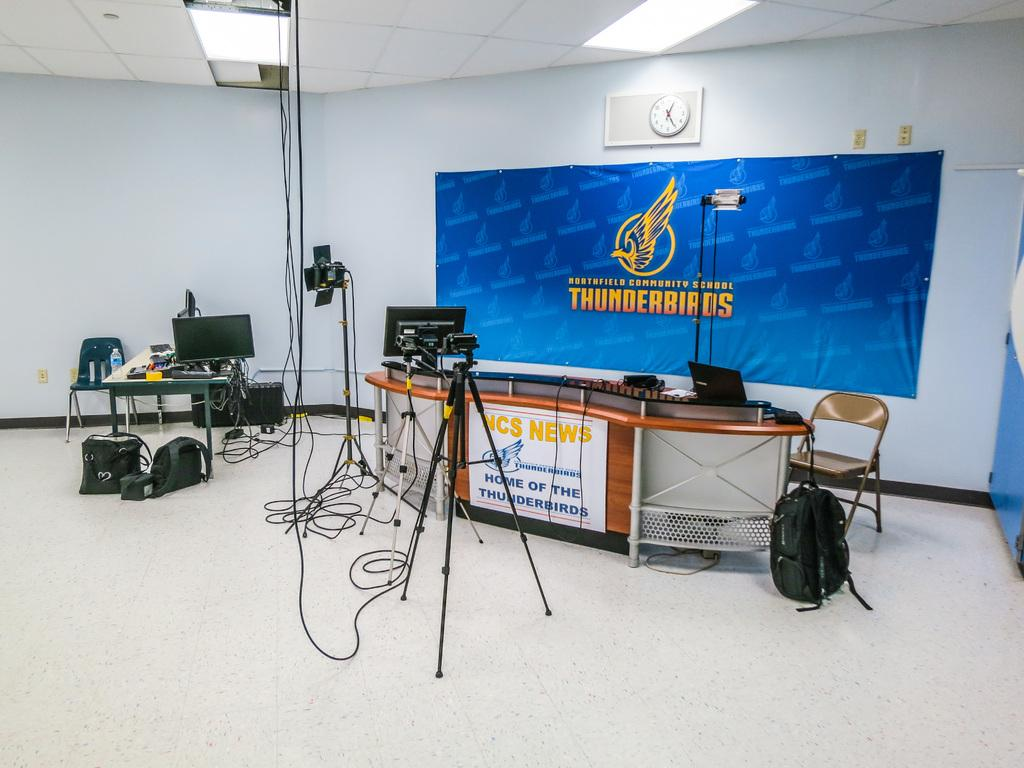Luggage-and-bags: (769, 482, 873, 616), (76, 431, 148, 495), (149, 435, 209, 497), (122, 471, 151, 495)
